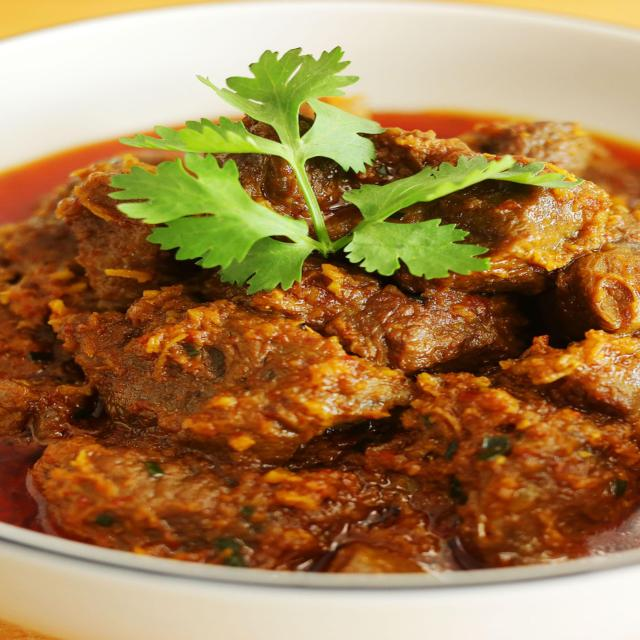Rendang: (7, 128, 640, 574)
